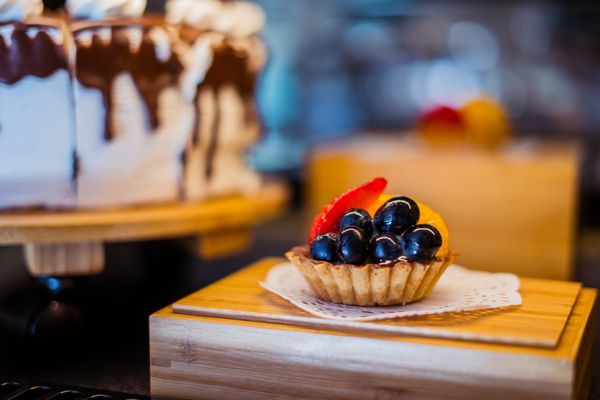sushi: (285, 177, 457, 306)
